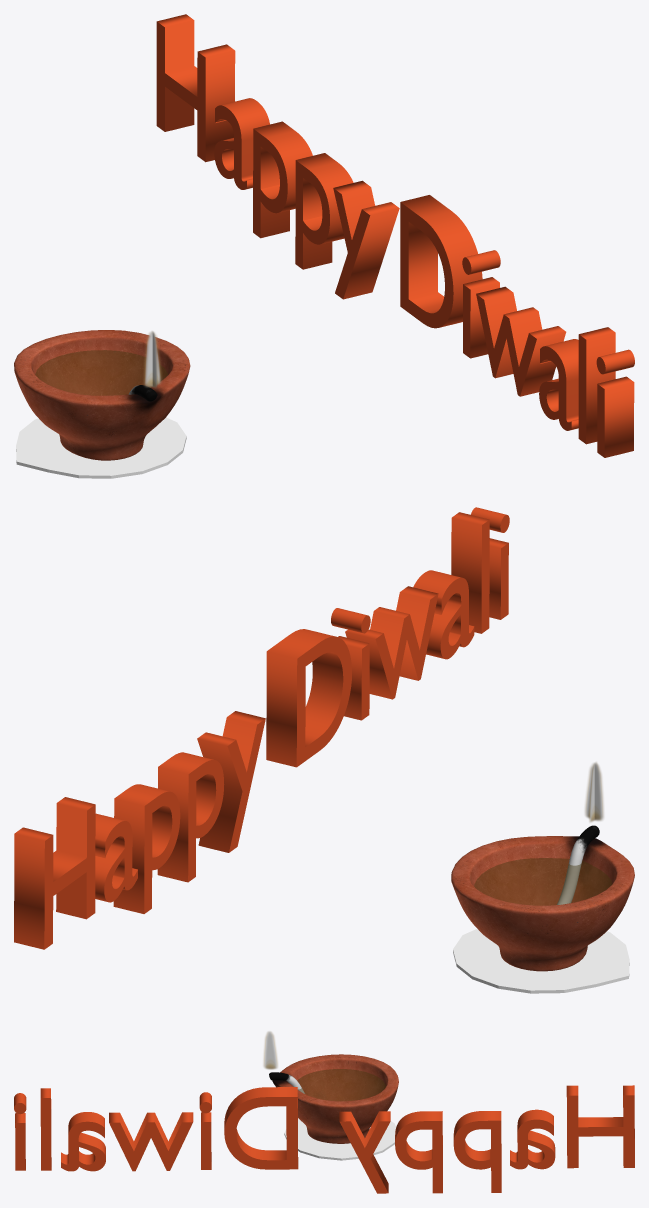
The model's file is Happy Diwali.glb.
The picture shows the model from 3 angles, top to bottom: view 1: azimuth 30°, elevation 25°; view 2: azimuth 150°, elevation 25°; view 3: azimuth 270°, elevation 25°; orthographic projection. The views are drawn at different scales.
Parts seen in each view (by area): view 1: Text, defaultMaterial, Object_7, defaultMaterial.002, defaultMaterial.003; view 2: Text, defaultMaterial, Object_7, defaultMaterial.002, defaultMaterial.001, defaultMaterial.003; view 3: Text, defaultMaterial, defaultMaterial.002, Object_7, defaultMaterial.003, defaultMaterial.001.
Boxes of the visible parts, x1,y1,x2,y2 form: Text: [156, 14, 634, 457]; defaultMaterial: [14, 330, 190, 460]; Object_7: [16, 417, 186, 478]; defaultMaterial.002: [35, 350, 167, 395]; defaultMaterial.003: [143, 331, 161, 388]; Text: [14, 507, 509, 949]; defaultMaterial: [451, 836, 634, 971]; Object_7: [453, 928, 629, 993]; defaultMaterial.002: [474, 858, 611, 905]; defaultMaterial.001: [557, 825, 599, 904]; defaultMaterial.003: [585, 762, 603, 822]; Text: [14, 1085, 634, 1193]; defaultMaterial: [272, 1054, 398, 1143]; defaultMaterial.002: [297, 1069, 385, 1100]; Object_7: [284, 1118, 396, 1160]; defaultMaterial.003: [263, 1031, 277, 1069]; defaultMaterial.001: [269, 1072, 304, 1093].
Size of the model in its own units: 4.05 by 2.05 by 8.25.
Materials: 5 (3 with a texture image).
